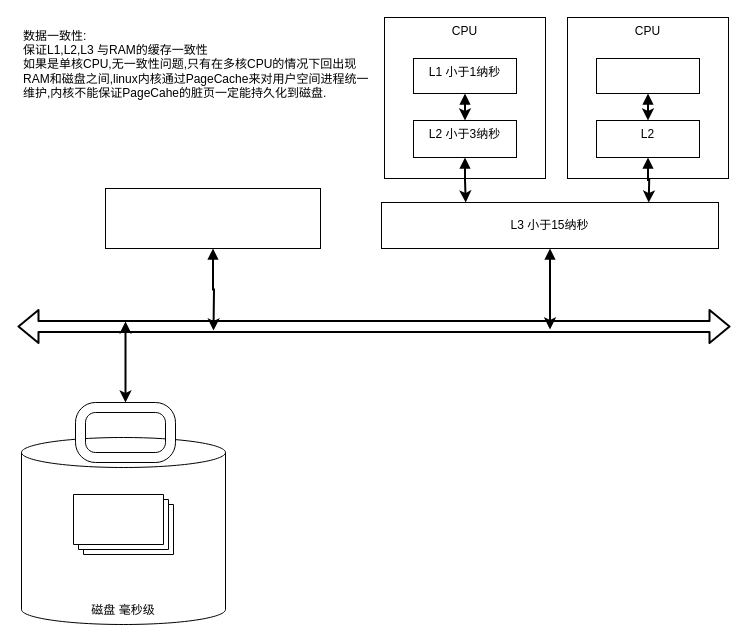
The diagram is 747 pixels wide and 642 high, and some of its shapes have lost their labels. The centre of each missing label's shape, as x and y in pixels:
buffer: (125,432)
L1: (648,76)
RAM 80纳秒左右: (212,218)
扇区: (123,524)
